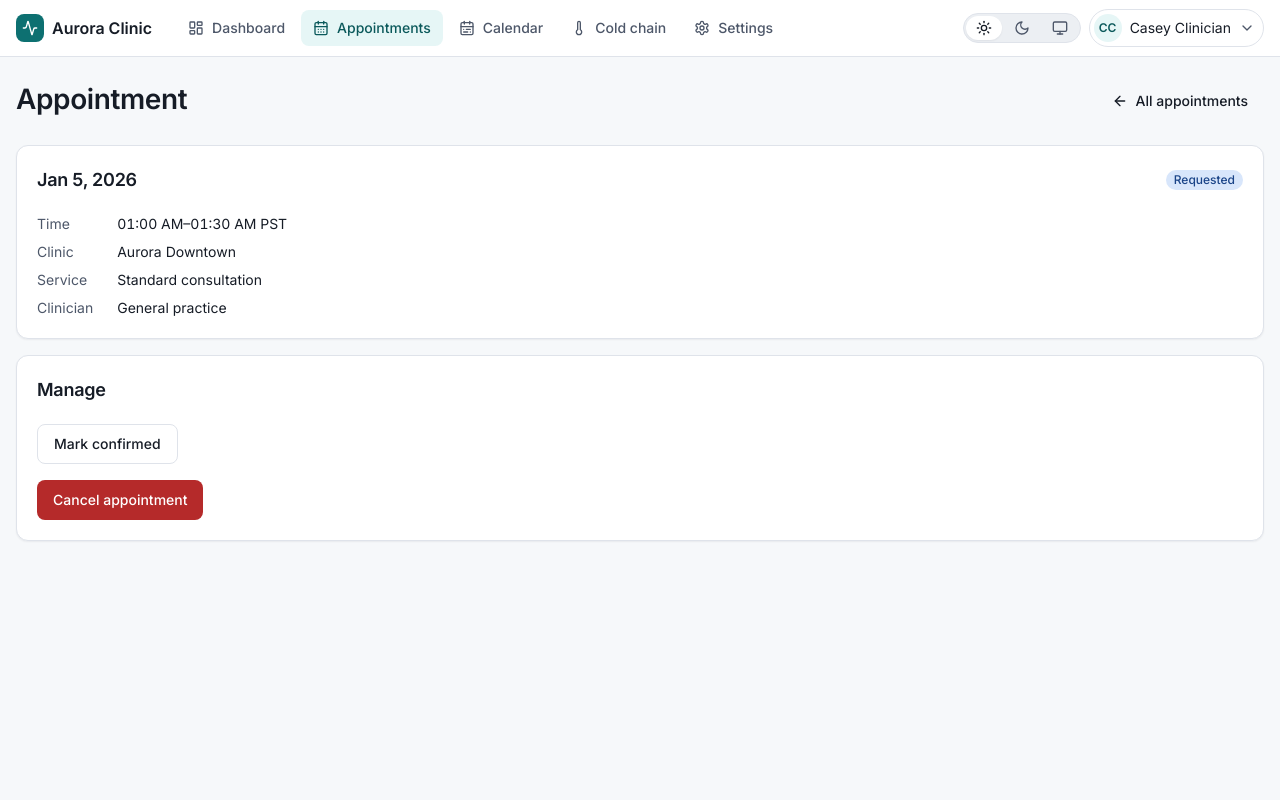
appointment detail transitions › cancels an appointment with a reason
Click the button "Cancel appointment": [120, 500] box top-left (37, 480), bottom-right (204, 520)
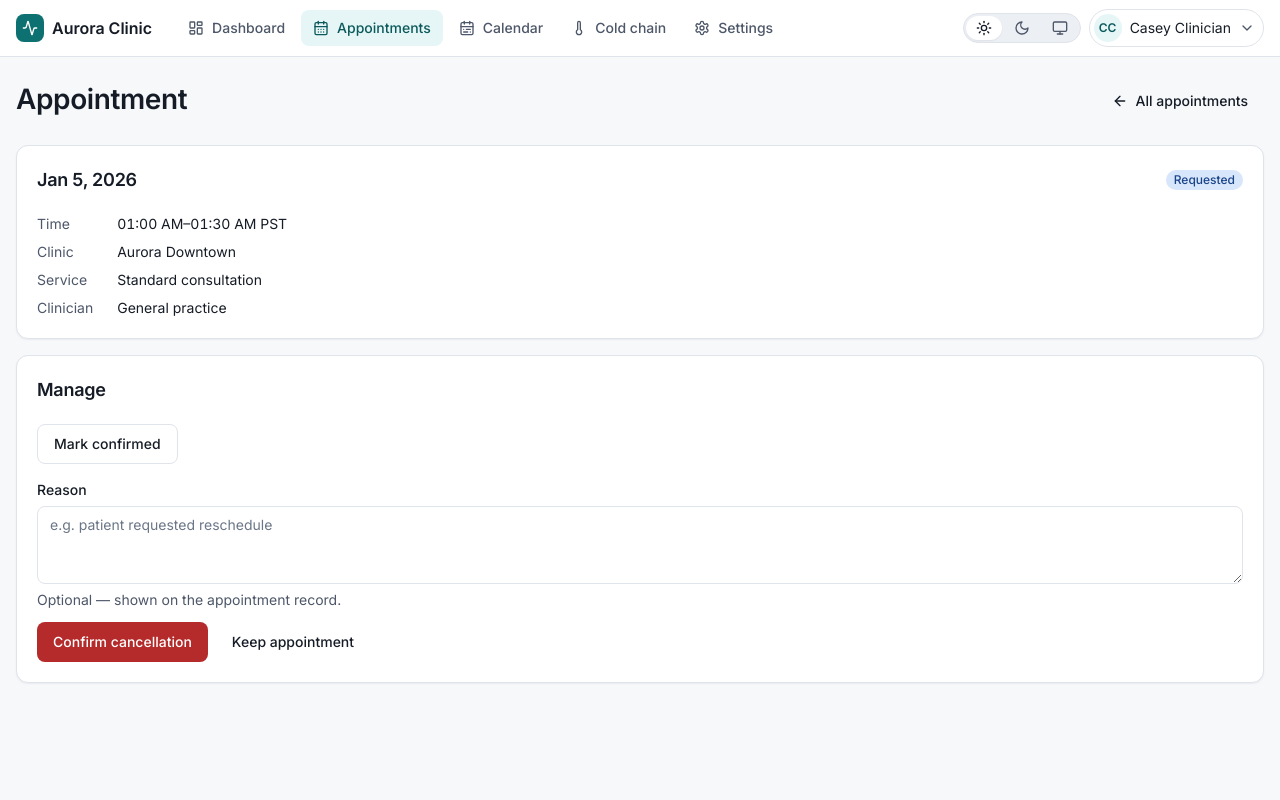
In the text box labelled "Reason": [640, 545] box top-left (37, 506), bottom-right (1243, 584), type "patient reschedule"
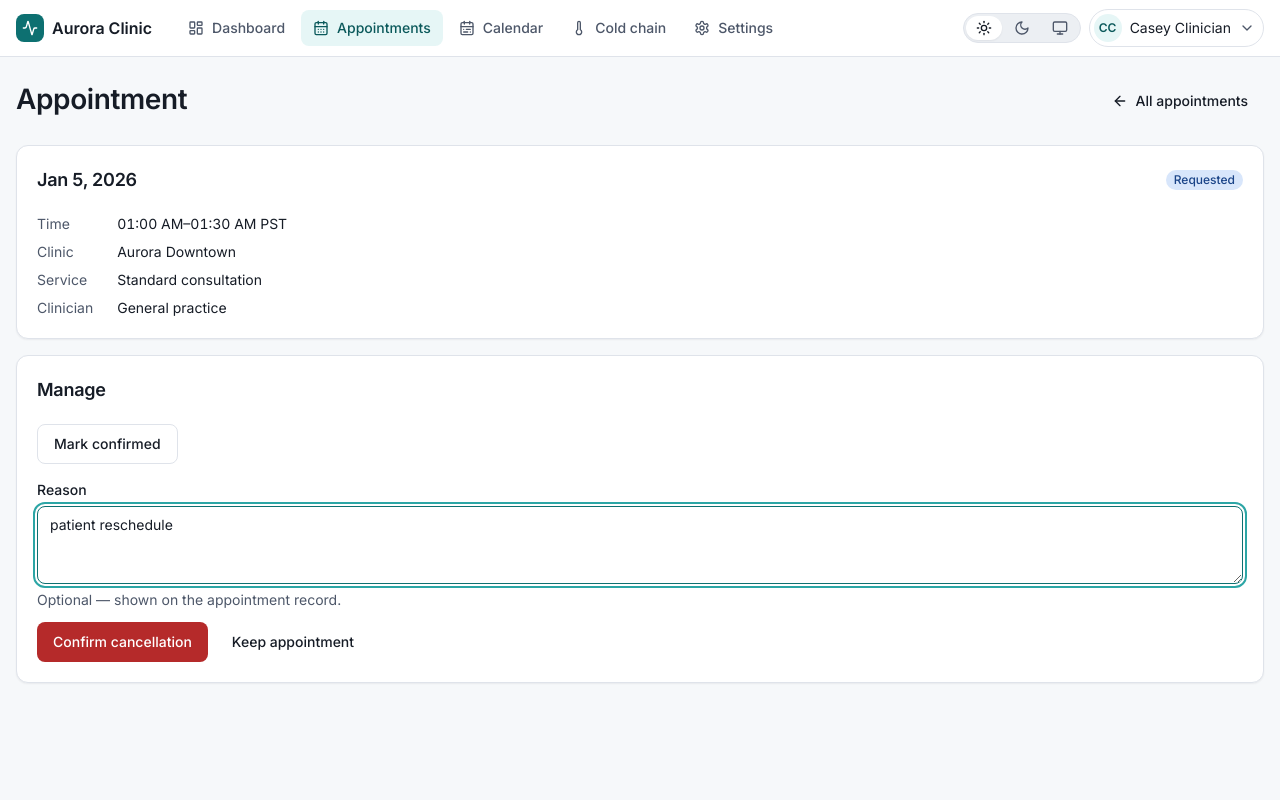
Click the button "Confirm cancellation": [122, 642] box top-left (37, 622), bottom-right (208, 662)
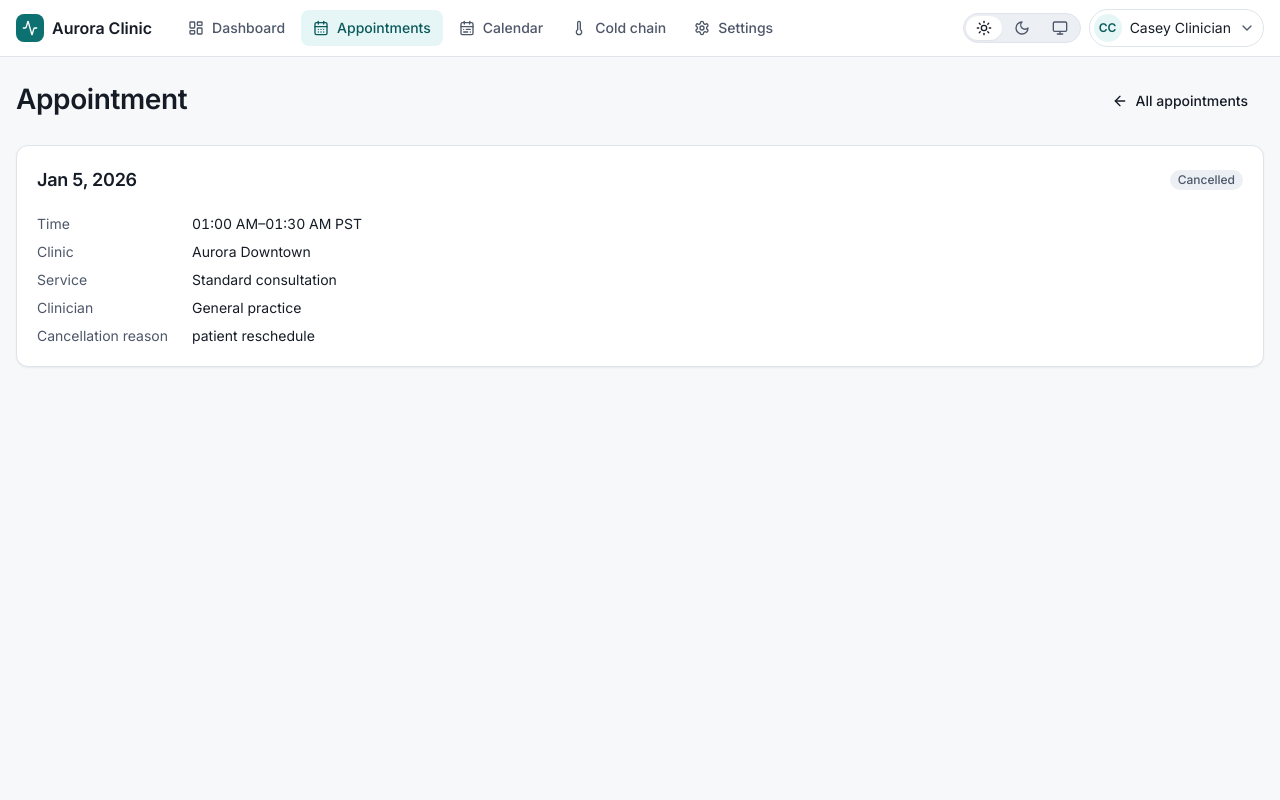
Result: the text "Cancelled" is shown at top-left (1170, 170), bottom-right (1243, 190)
